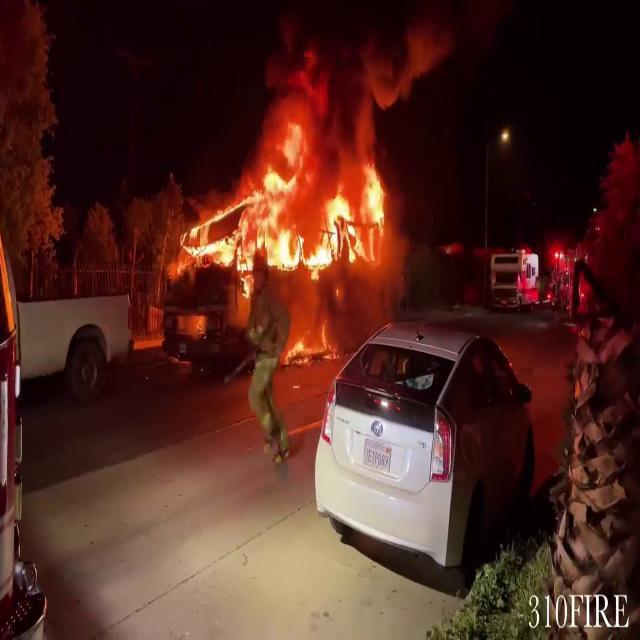Fire: (178, 68, 400, 334)
Smoke: (252, 0, 441, 165)
